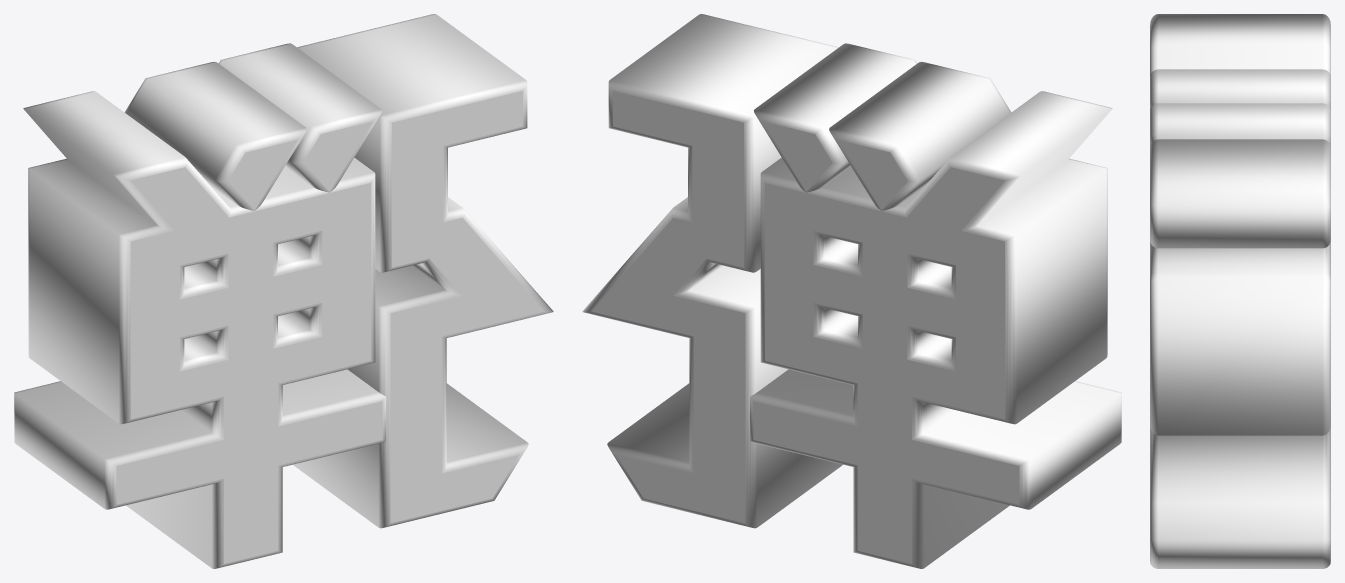
File: text_dan_01.obj
3 views of the same model, side by side, from view 1: azimuth 30°, elevation 25°; view 2: azimuth 150°, elevation 25°; view 3: azimuth 270°, elevation 25° (orthographic). The views are drawn at different scales.
Parts seen in each view (by area): view 1: 弾(1); view 2: 弾(1); view 3: 弾(1).
Boxes of the visible parts, x1,y1,x2,y2 form: 弾(1): (14, 14, 553, 568); 弾(1): (582, 14, 1121, 568); 弾(1): (1150, 14, 1330, 568).
Bounding box in the file's own units: 0.5801 × 0.5163 × 0.22.
1 material, 1 textured.
